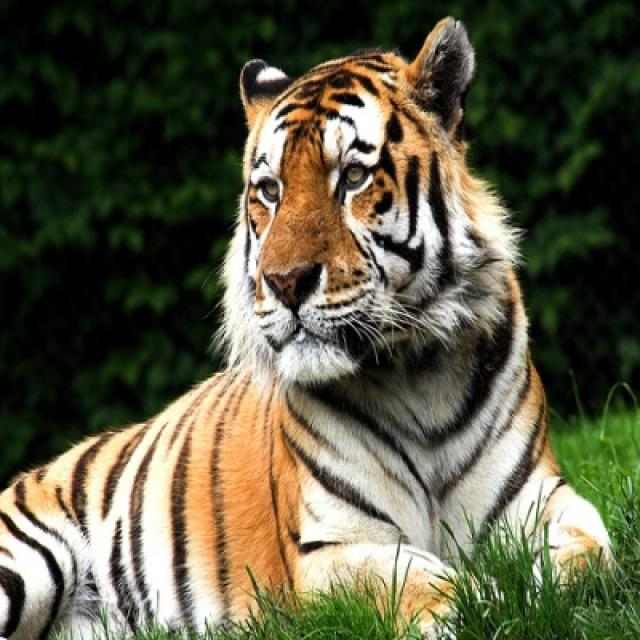Tiger: (0, 13, 615, 638)
